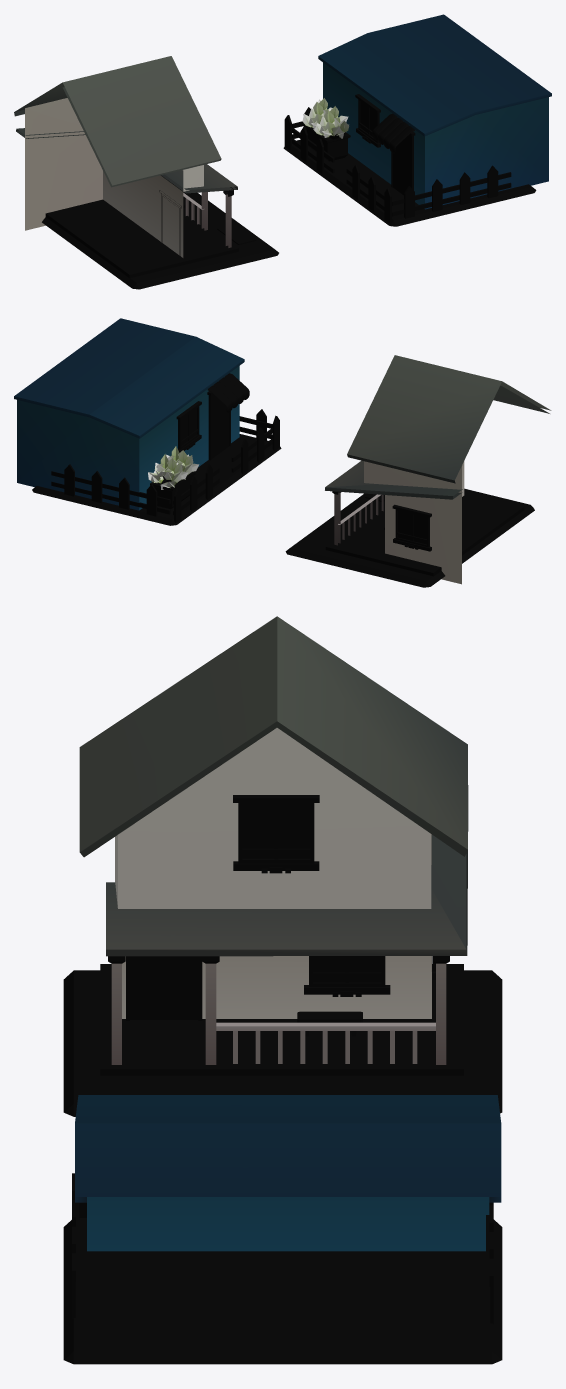
Rendered from SK_ER_module11_walls.fbx.
3 renders of one model, top to bottom at view 1: azimuth 30°, elevation 25°; view 2: azimuth 150°, elevation 25°; view 3: azimuth 270°, elevation 25°, orthographic. The views are drawn at different scales.
Visible parts, largest first — view 1: SM_ER_module11_walls; view 2: SM_ER_module11_walls; view 3: SM_ER_module11_walls.
Boxes of the visible parts, bbox=[...] form: SM_ER_module11_walls: bbox=[14, 14, 551, 289]; SM_ER_module11_walls: bbox=[14, 318, 551, 587]; SM_ER_module11_walls: bbox=[63, 616, 502, 1364].
Bounding box in the file's own units: 4075 × 1577 × 1788.
